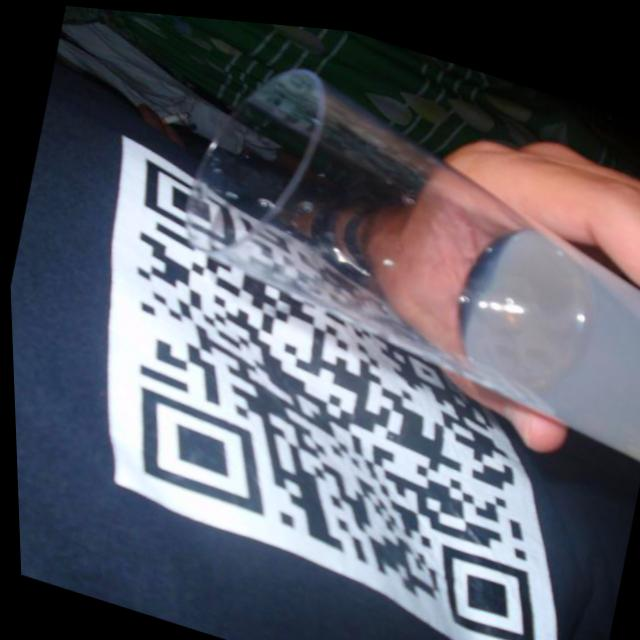qrcode: (65, 151, 612, 640)
